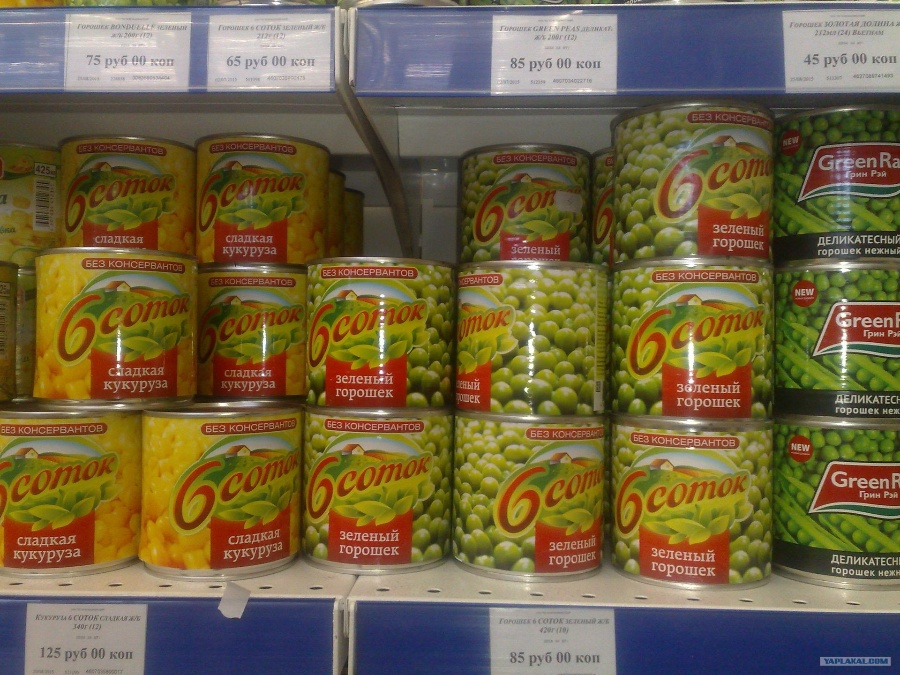peas: (603, 413, 794, 605), (297, 405, 465, 587), (452, 408, 614, 595), (610, 102, 788, 271), (606, 260, 785, 427), (295, 248, 471, 417), (454, 257, 621, 424), (764, 250, 900, 425), (775, 405, 900, 594)
